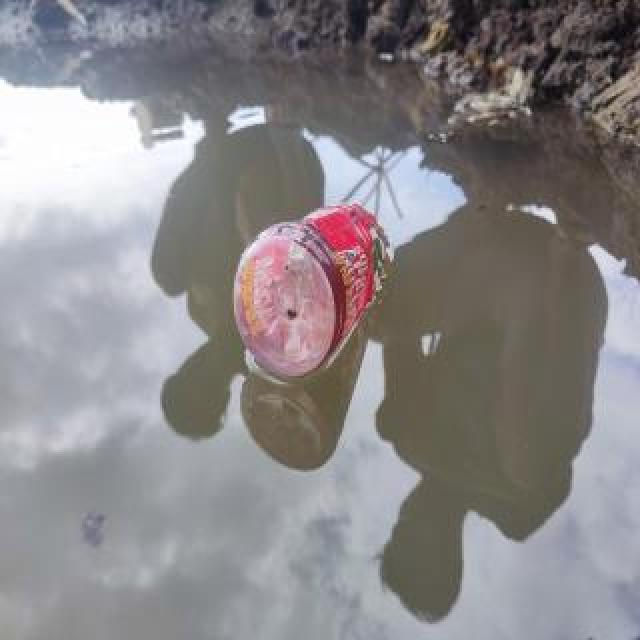bottle: (231, 192, 395, 386)
